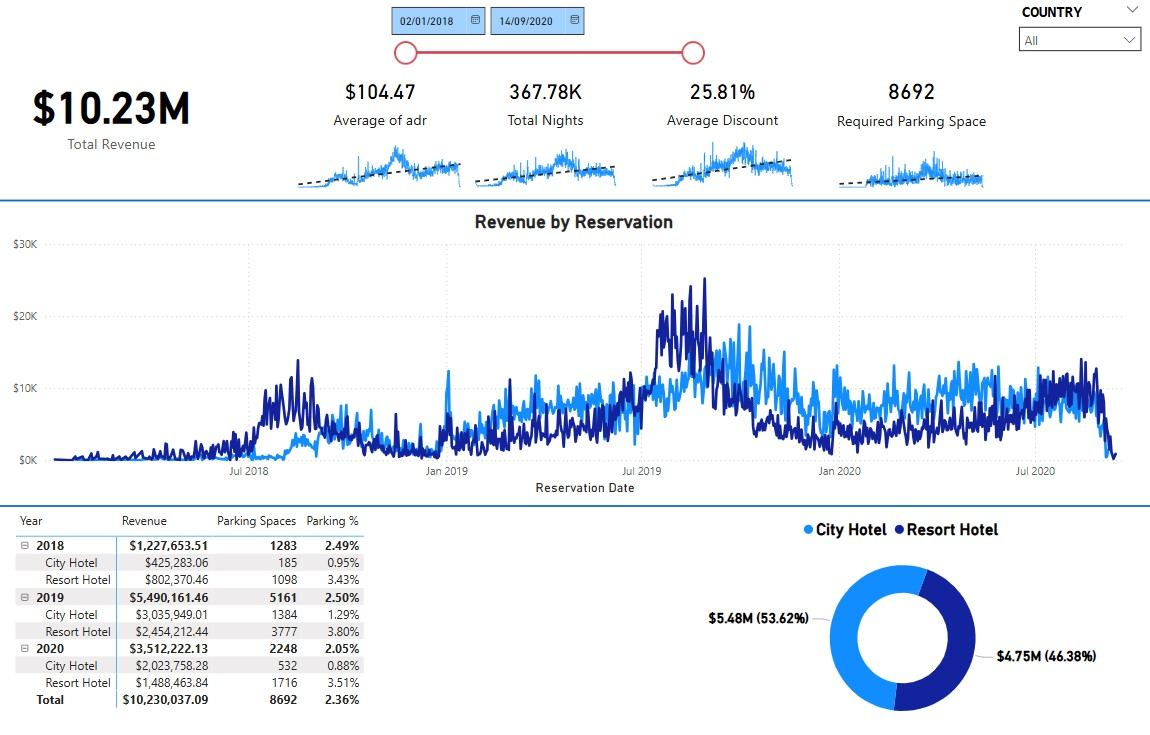

The page's visual inventory and layout, read from the dashboard file:
{"tool":"powerbi","page":{"name":"Page 1","canvas":[1280,820],"ordinal":0},"visuals":[{"type":"shape","box":[0,0,1280,450],"z":0},{"type":"shape","box":[0,310,1280,508.9],"z":1000},{"type":"donutChart","title":"Revenue","fields":{"Y":["Sum(Query1.Revenue)"],"Category":["Query1.hotel"]},"box":[731.1,566.7,548.9,253.3],"z":2000},{"type":"card","fields":{"Values":["Avg(Query1.adr)"]},"box":[318.9,74.4,211.1,78.9],"z":3000},{"type":"card","fields":{"Values":["Query1.Total Nights"]},"box":[515.6,74.4,185.6,78.9],"z":4000},{"type":"card","fields":{"Values":["Avg(Query1.Discount)"]},"box":[712.2,74.4,185.6,78.9],"z":5000},{"type":"lineChart","title":"Revenue by Reservation","fields":{"Category":["Query1.reservation_status_date"],"Y":["Sum(Query1.Revenue)"],"Series":["Query1.hotel"]},"box":[11.1,236.7,1257.8,320],"z":6000},{"type":"slicer","fields":{"Values":["Query1.country"]},"box":[1124.4,0,155.6,86.7],"z":7000},{"type":"card","fields":{"Values":["Sum(Query1.required_car_parking_spaces)"]},"box":[920,74.4,190,78.9],"z":8000},{"type":"card","fields":{"Values":["Sum(Query1.Revenue)"]},"box":[0,38.9,252.2,176.7],"z":9000},{"type":"lineChart","title":"Revenue by Reservation","fields":{"Y":["Sum(Query1.adr)"],"Category":["Query1.reservation_status_date"]},"box":[318.9,143.3,211.1,73.3],"z":10000},{"type":"lineChart","title":"Revenue by Reservation","fields":{"Category":["Query1.reservation_status_date"],"Y":["Query1.Total Nights"]},"box":[515.6,142.2,185.6,73.3],"z":11000},{"type":"lineChart","title":"Revenue by Reservation","fields":{"Y":["Sum(Query1.Discount)"],"Category":["Query1.reservation_status_date"]},"box":[712.2,142.2,185.6,73.3],"z":12000},{"type":"lineChart","title":"Revenue by Reservation","fields":{"Category":["Query1.reservation_status_date"],"Y":["Sum(Query1.required_car_parking_spaces)"]},"box":[920,142.2,190,74.4],"z":13000},{"type":"pivotTable","fields":{"Rows":["Query1.reservation_status_date.Variation.Date Hierarchy.Year","Query1.hotel"],"Values":["Sum(Query1.Revenue)","Sum(Query1.required_car_parking_spaces)","Query1.Parking Percentage"]},"box":[14.4,565.6,443.3,253.3],"z":14000},{"type":"slicer","fields":{"Values":["Query1.reservation_status_date"]},"box":[424.4,0,368.9,74.4],"z":14001}]}

Visuals, with their boxes in screenshot pixels (x1, y1, x2, y2), scaled from the page's 1280x820 canvas onto the 1150x735 screenshot:
shape: 0 0 1149 403
shape: 0 278 1149 734
"Revenue" donutChart: 657 508 1149 734
card - Avg(Query1.adr): 287 67 476 137
card - Query1.Total Nights: 463 67 630 137
card - Avg(Query1.Discount): 640 67 807 137
"Revenue by Reservation" lineChart: 10 212 1140 499
slicer - Query1.country: 1010 0 1149 78
card - Sum(Query1.required_car_parking_spaces): 827 67 997 137
card - Sum(Query1.Revenue): 0 35 227 193
"Revenue by Reservation" lineChart: 287 128 476 194
"Revenue by Reservation" lineChart: 463 127 630 193
"Revenue by Reservation" lineChart: 640 127 807 193
"Revenue by Reservation" lineChart: 827 127 997 194
pivotTable - Query1.reservation_status_date.Variation.Date Hierarchy.Year x Query1.hotel: 13 507 411 734
slicer - Query1.reservation_status_date: 381 0 713 67
